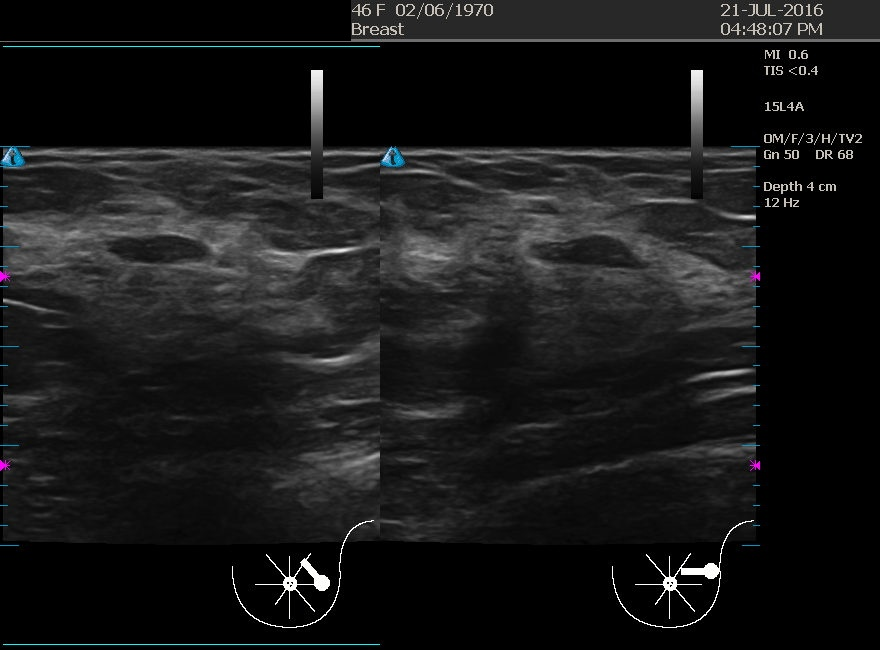BIRADS_2: (89, 148, 289, 348)
BIRADS_3: (516, 224, 716, 424)
